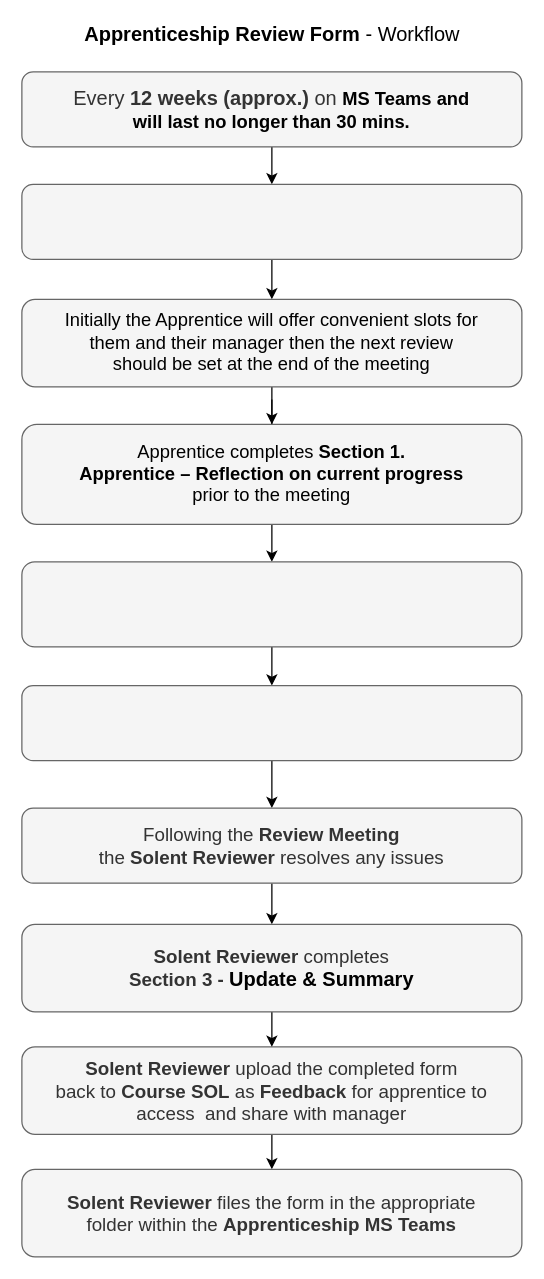
Some shapes in this 544 by 1279 pixel diagram are drawn without their labels. Each missing label, with the box of its shape:
Apprentice uploads Review Form to Course SOL: (21, 684, 522, 761)
Manager completes Section 2. Employer Comments again prior to the meeting: (21, 561, 522, 647)
With Solent Reviewer, Apprentice and their Manager: (21, 183, 522, 259)
